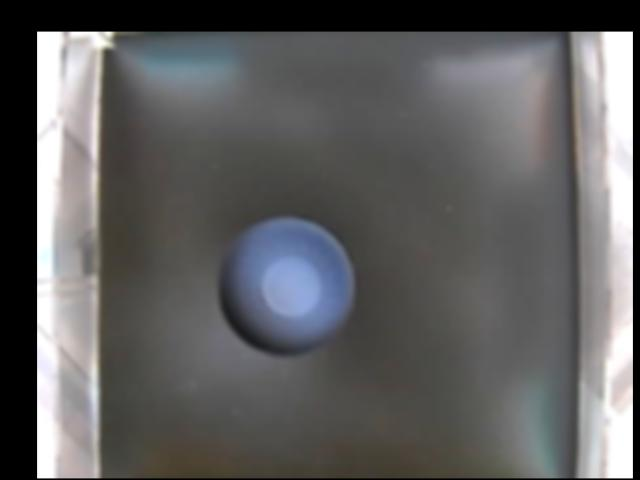Cup: (220, 215, 357, 356)
